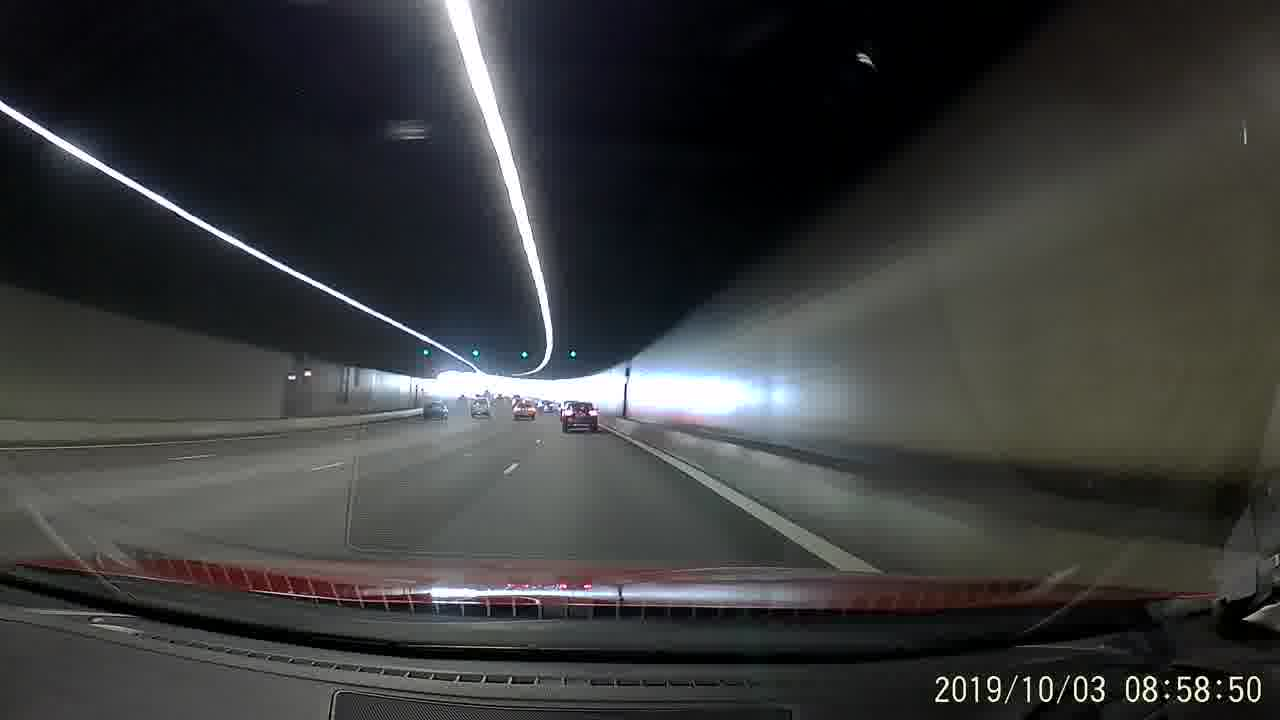car: (560, 400, 598, 436), (512, 398, 539, 421), (421, 401, 449, 421)
